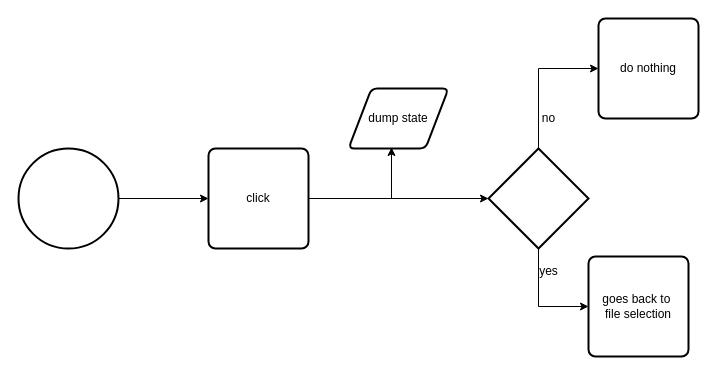
Some shapes in this 716 by 374 pixel diagram are drawn without their labels. The box of each missing label's shape, as (x1, y1, x2, y2) in pixels:
cancel: (17, 147, 119, 249)
options: (487, 147, 589, 249)
